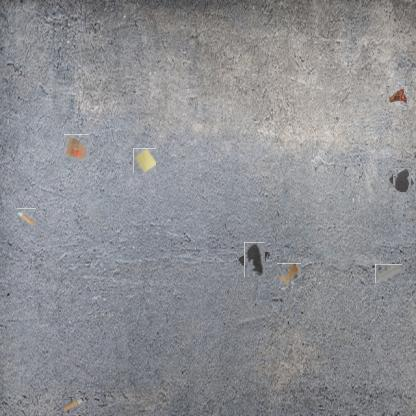dirty: (241, 245, 268, 274), (63, 134, 90, 161), (133, 148, 156, 173), (377, 262, 400, 285), (63, 392, 85, 414), (386, 86, 408, 107), (16, 208, 36, 227)
liquid: (278, 263, 301, 286), (392, 168, 414, 190)
